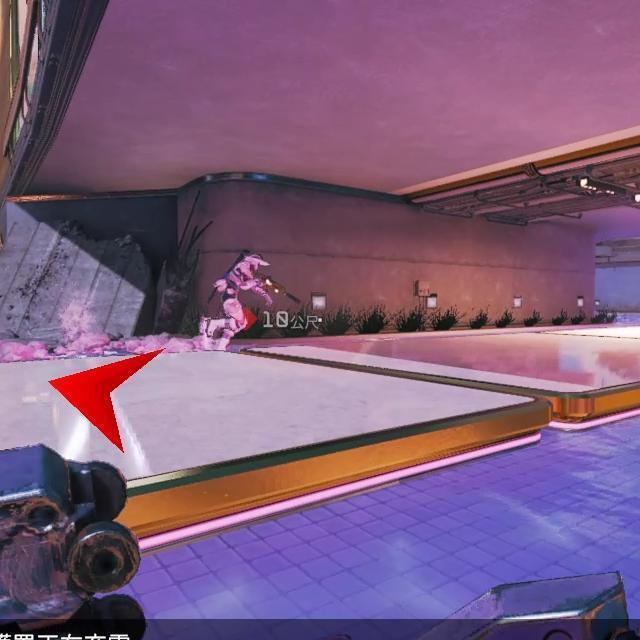avatar: (197, 253, 271, 357)
